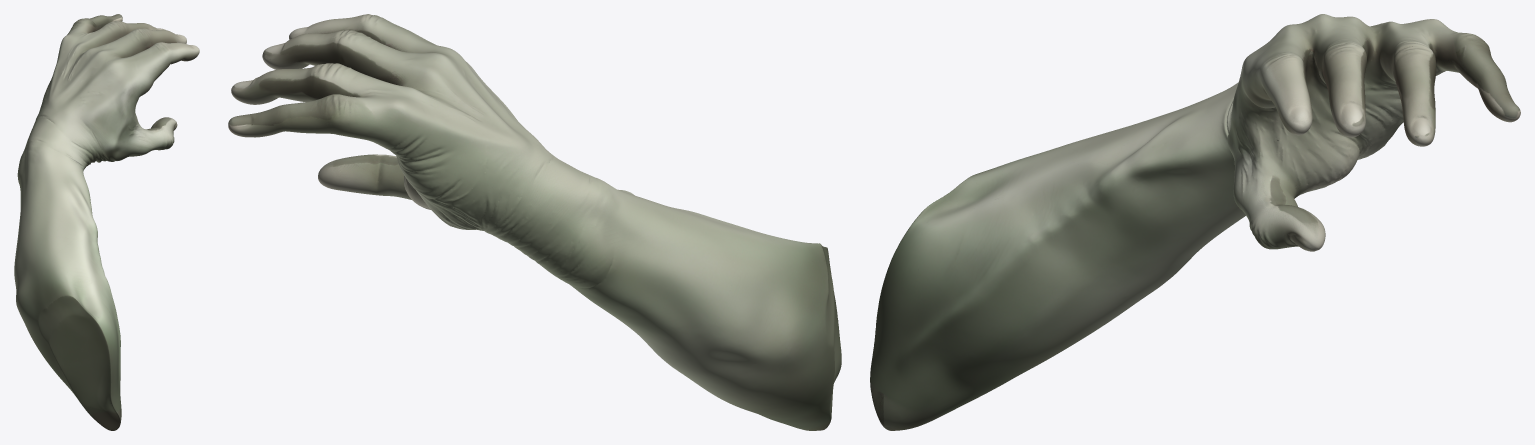
File: hand_reload.glb
The picture shows the model from 3 angles, left to right: view 1: azimuth 30°, elevation 25°; view 2: azimuth 150°, elevation 25°; view 3: azimuth 270°, elevation 25°; orthographic projection. The views are drawn at different scales.
Size of the model in its own units: 1.5 by 1.68 by 1.9.
1 material, 1 textured.
